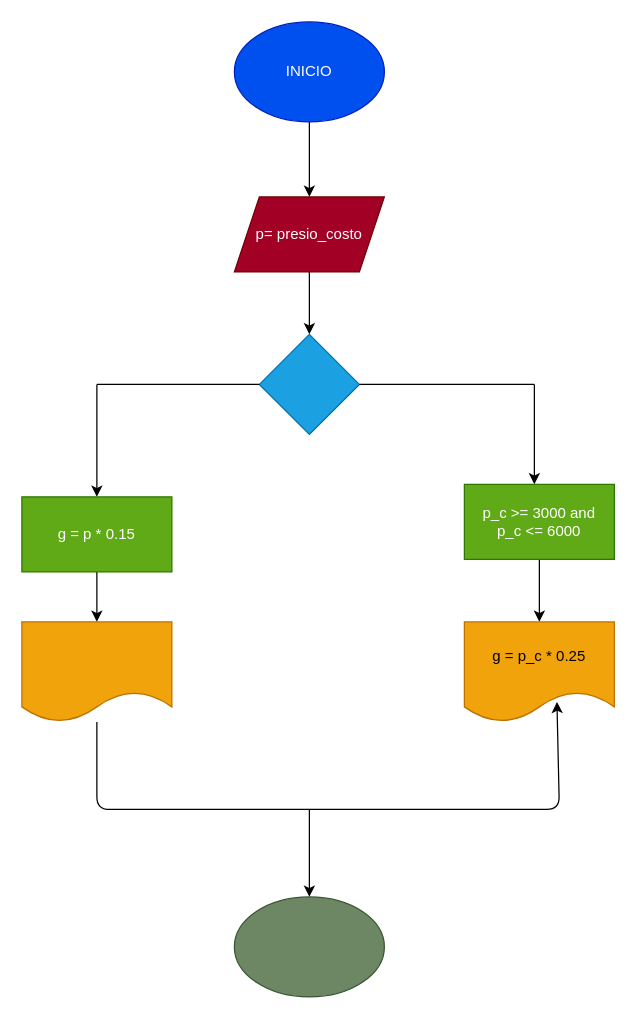
Image size: 636x1019. Some labels were removed from this diagram. The shapes that lost their labels are listed below. From the top down, each one's centre as x and y in pixels, then its label:
At point (308, 383): "p<3000".
At point (96, 671): "g = 500".
At point (308, 946): "FIN".
